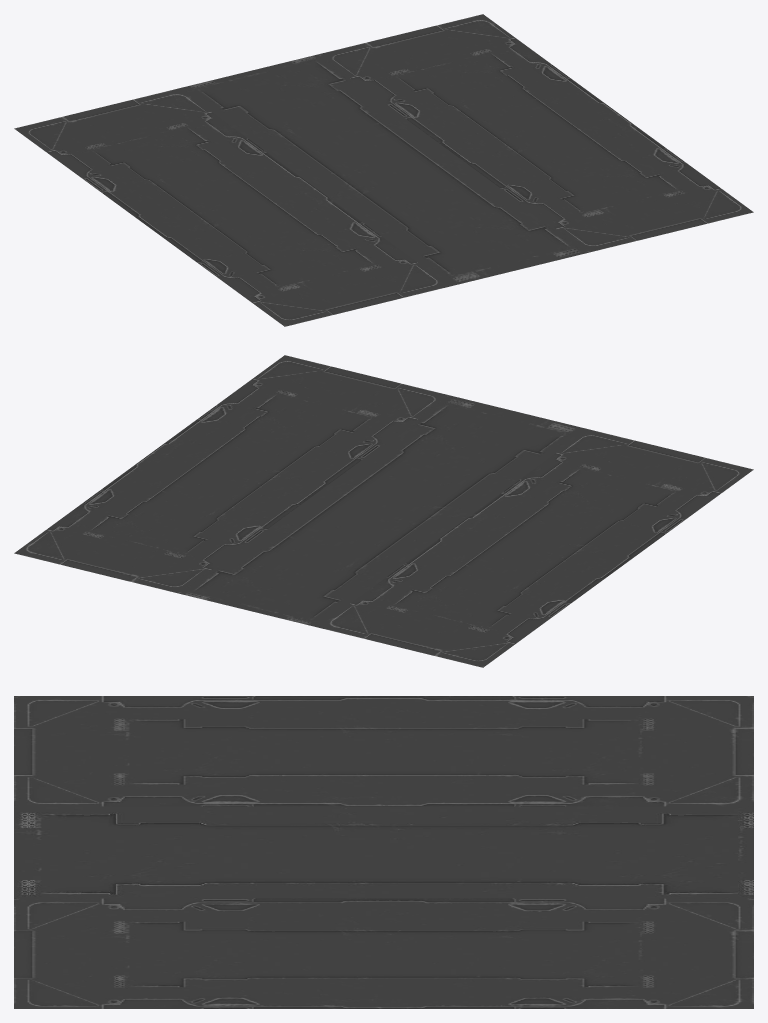
The model's file is platform_darkplates.gltf.
3 renders of one model, top to bottom at view 1: azimuth 30°, elevation 25°; view 2: azimuth 150°, elevation 25°; view 3: azimuth 270°, elevation 25°, orthographic. The views are drawn at different scales.
Visible parts, largest first — view 1: Platform_DarkPlates; view 2: Platform_DarkPlates; view 3: Platform_DarkPlates.
Boxes of the visible parts, x1,y1,x2,y2 form: Platform_DarkPlates: (14,14,753,326); Platform_DarkPlates: (14,355,753,667); Platform_DarkPlates: (14,696,753,1008).
Bounding box in the file's own units: 4 × 0 × 4.
Materials: 1 (1 with a texture image).
